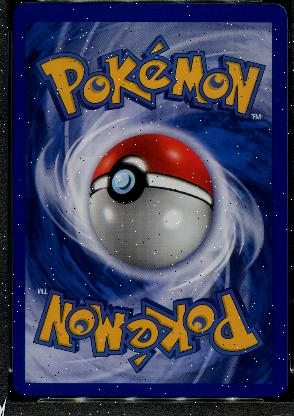Card: (11, 2, 287, 398)
Scratch: (261, 166, 269, 174), (17, 28, 22, 34), (271, 198, 275, 202), (283, 329, 286, 333)
